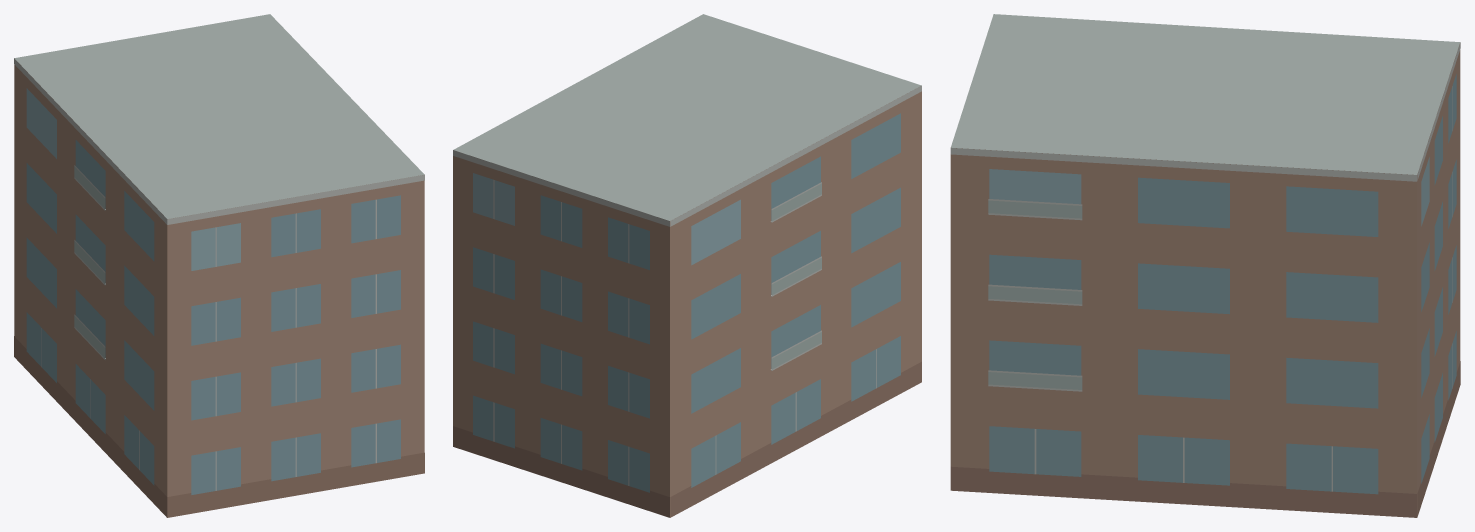
The model's file is survey-upis-32849568.glb.
The picture shows the model from 3 angles, left to right: view 1: azimuth 30°, elevation 25°; view 2: azimuth 150°, elevation 25°; view 3: azimuth 270°, elevation 25°; orthographic projection. The views are drawn at different scales.
Parts seen in each view (by area): view 1: survey-upis-32849568.tmp; view 2: survey-upis-32849568.tmp; view 3: survey-upis-32849568.tmp.
Part boxes in pixels (x1,y1,x2,y2): survey-upis-32849568.tmp: (14,14,424,517); survey-upis-32849568.tmp: (453,14,921,517); survey-upis-32849568.tmp: (950,14,1460,517).
Bounding box in the file's own units: 12.5 × 12.4 × 16.72.
